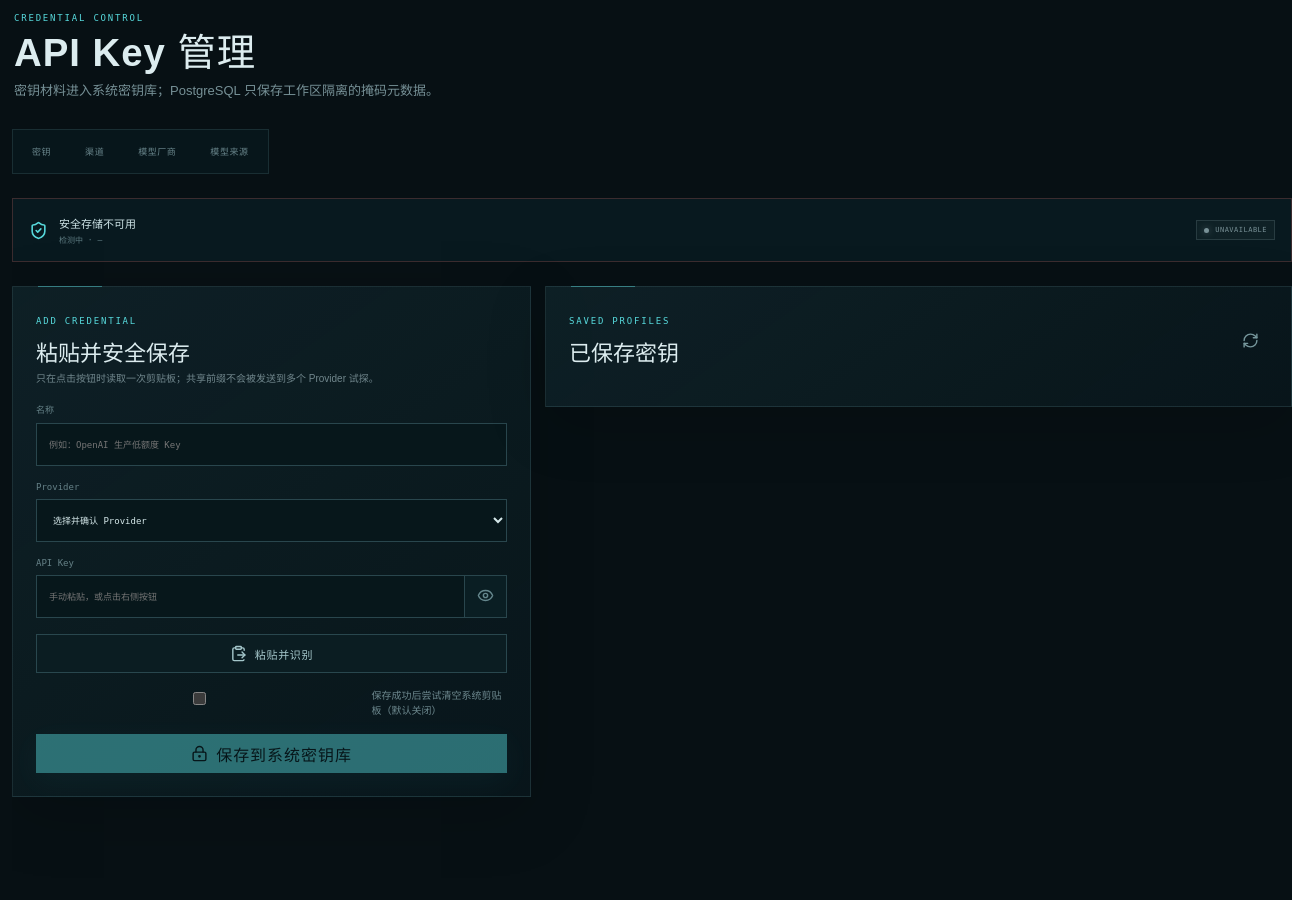
Test case: API Key management › reads clipboard only after a click and clears component/query state after save
This screenshot has width=1292, height=900.
Click the button "粘贴并识别" at (272, 654), box [36,634,507,673]
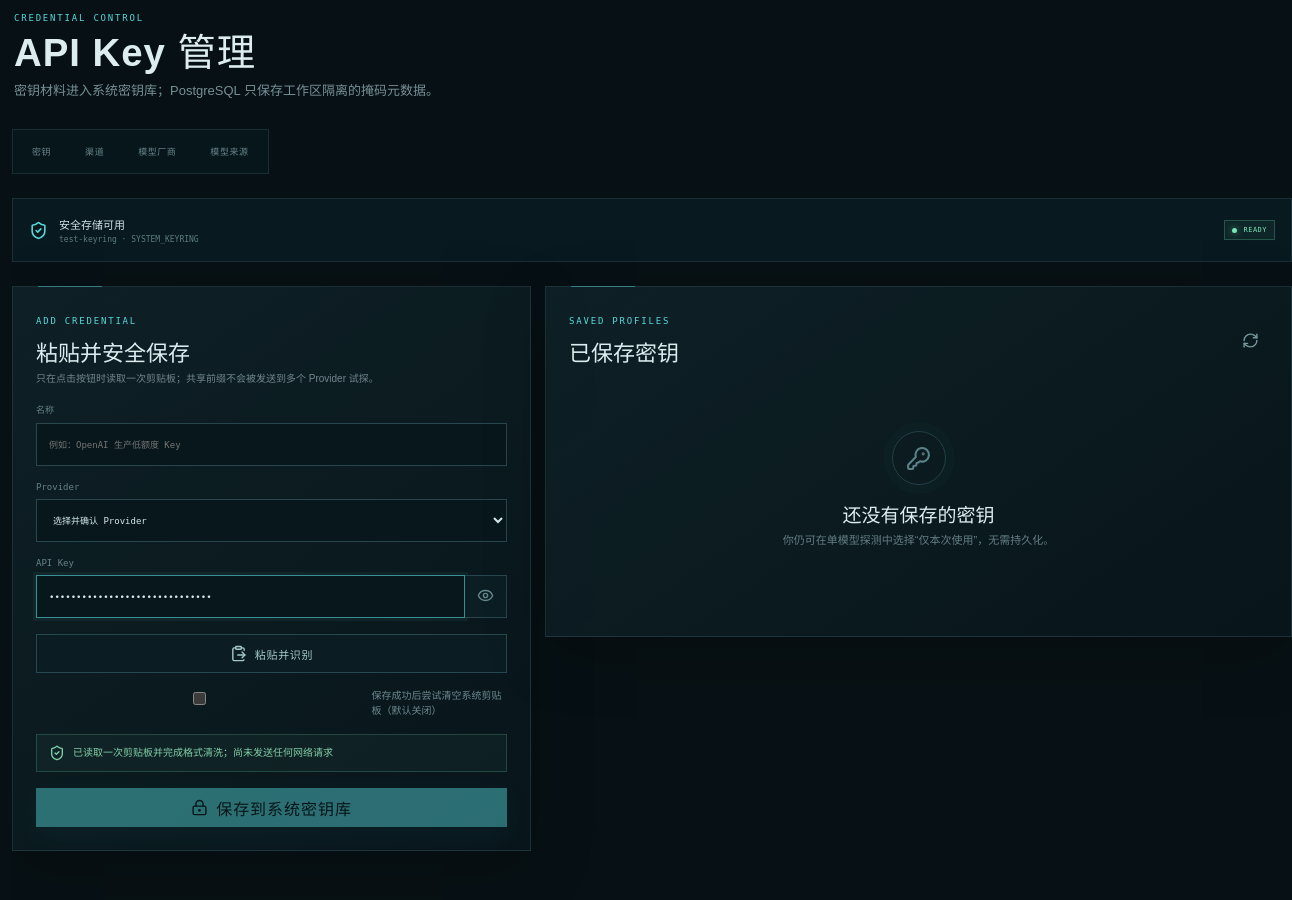
Now the password field labelled "API Key" holds "sk-explicit-clipboard-sentinel", box [36,575,465,618]
Type "Primary" into the field labelled "名称" at (272, 445), box [36,423,507,466]
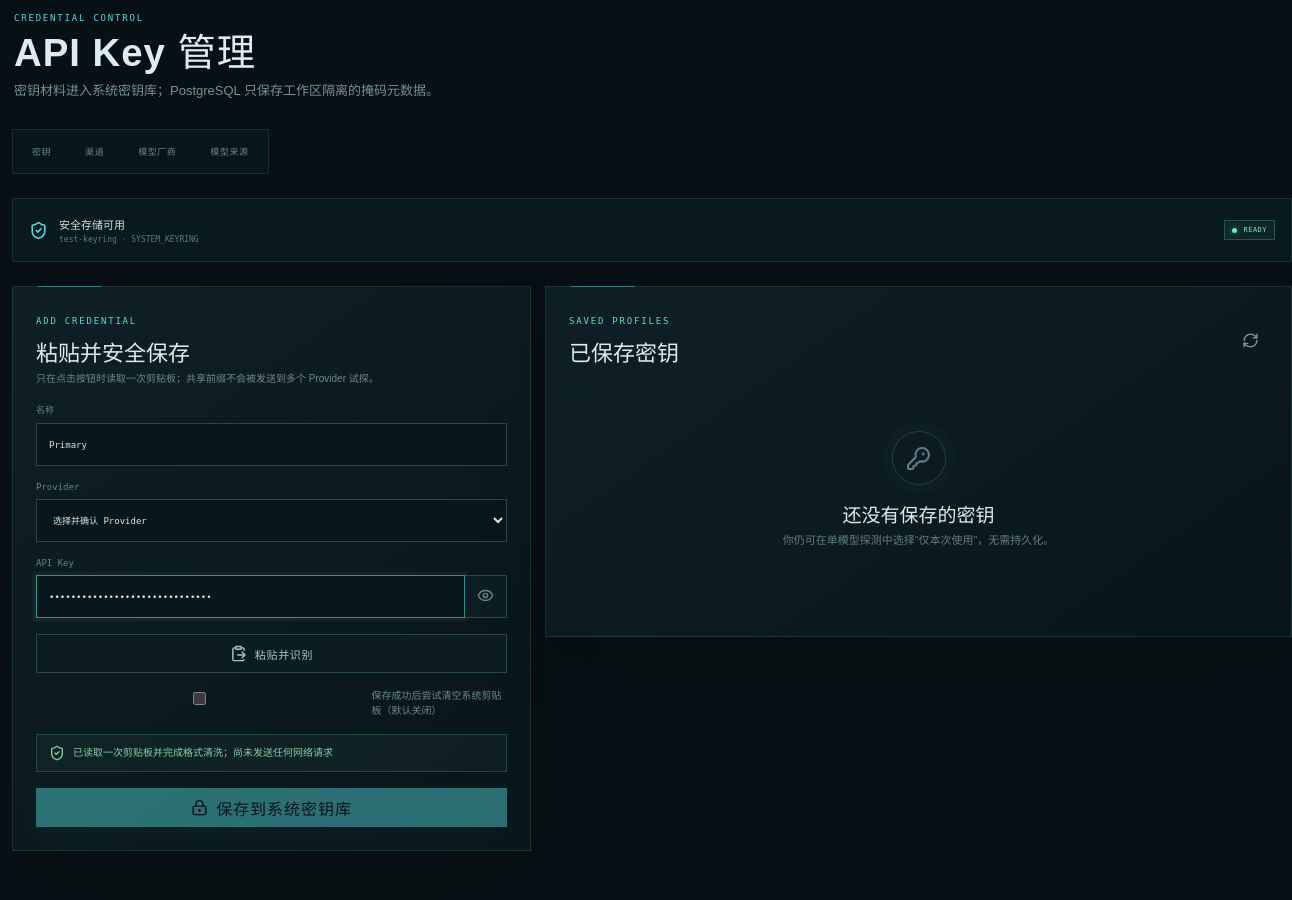
Select "OpenAI" in the dropdown labelled "Provider" at (272, 521), box [36,499,507,542]
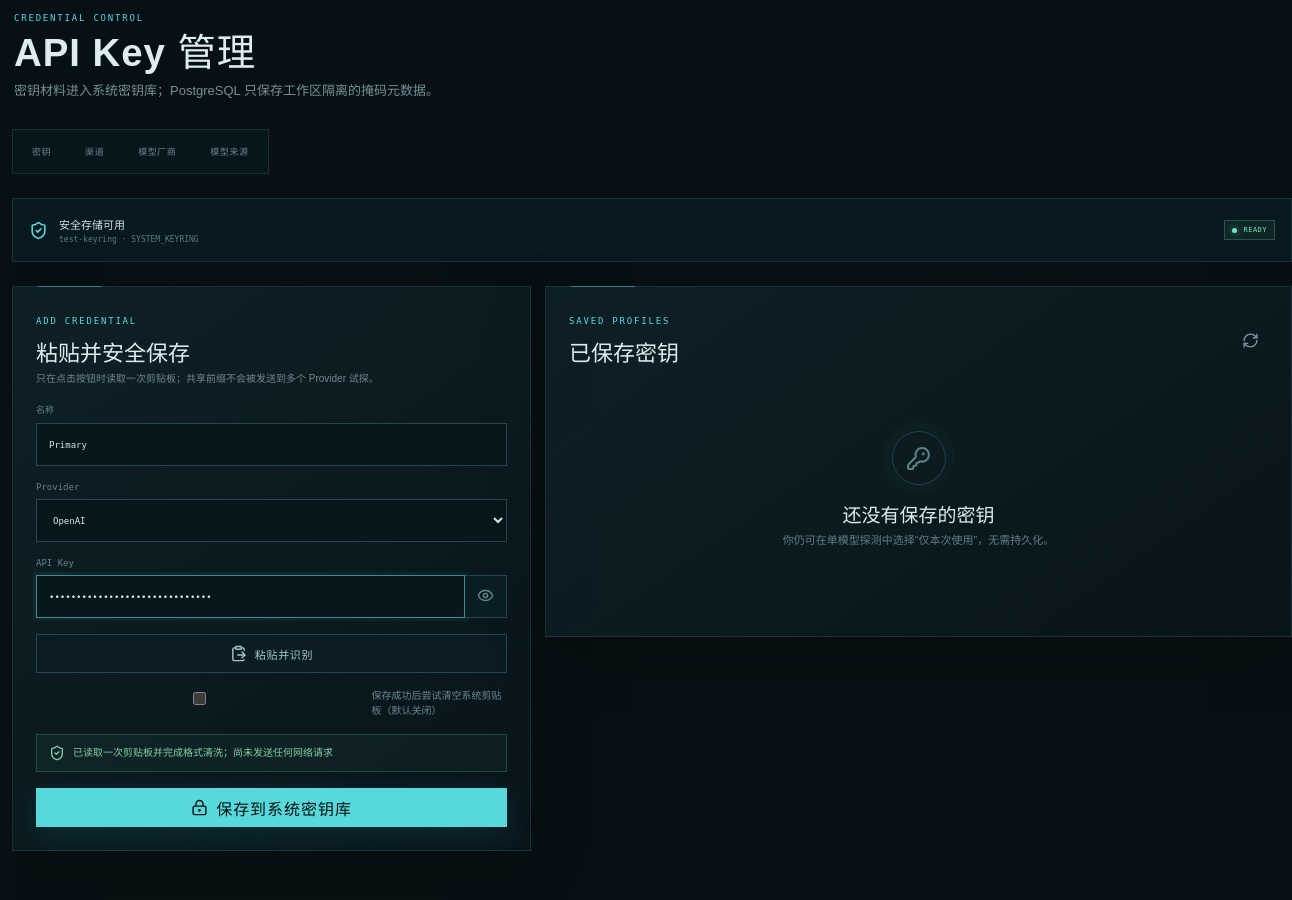
Click the button "保存到系统密钥库" at (272, 808), box [36,788,507,827]
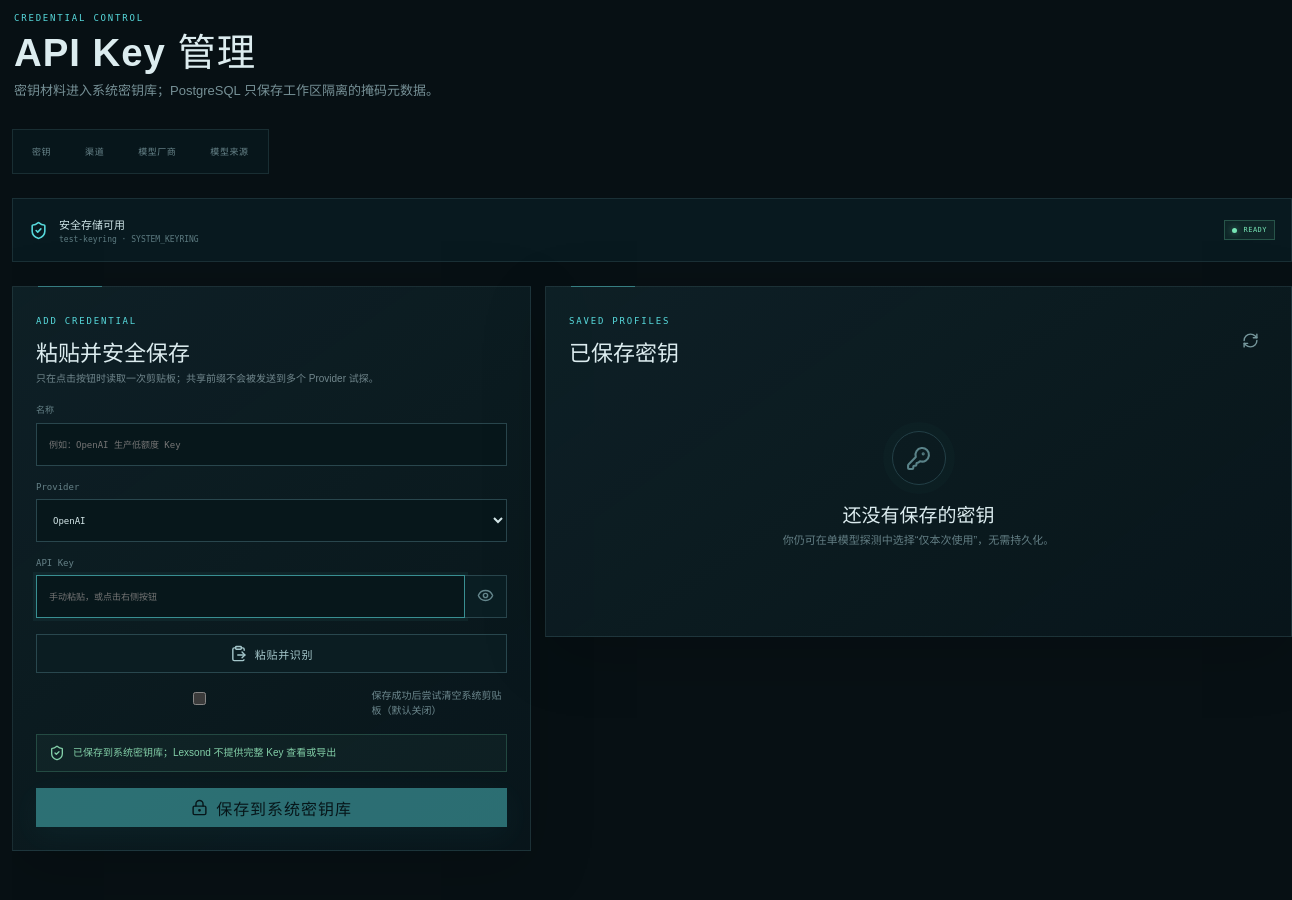
Now the text "已保存到系统密钥库；Lexsond 不提供完整 Key 查看或导出" is shown, box [36,734,507,772]
Now the password field labelled "API Key" is empty, box [36,575,465,618]
